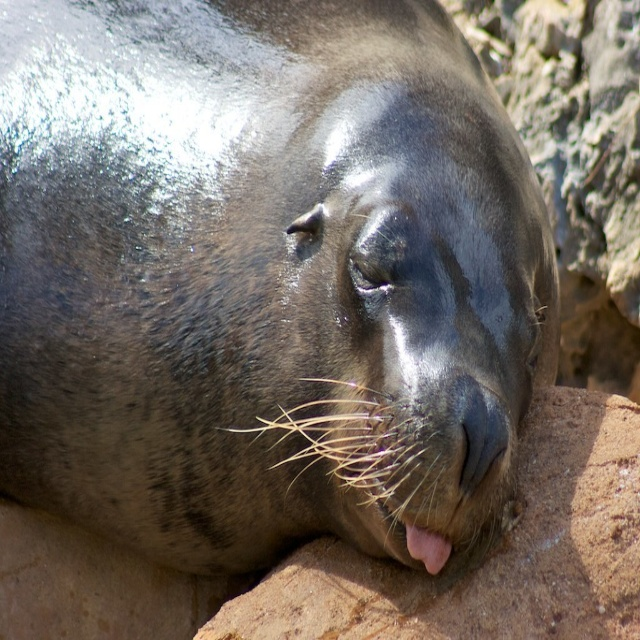Sea lion: (0, 0, 562, 576)
